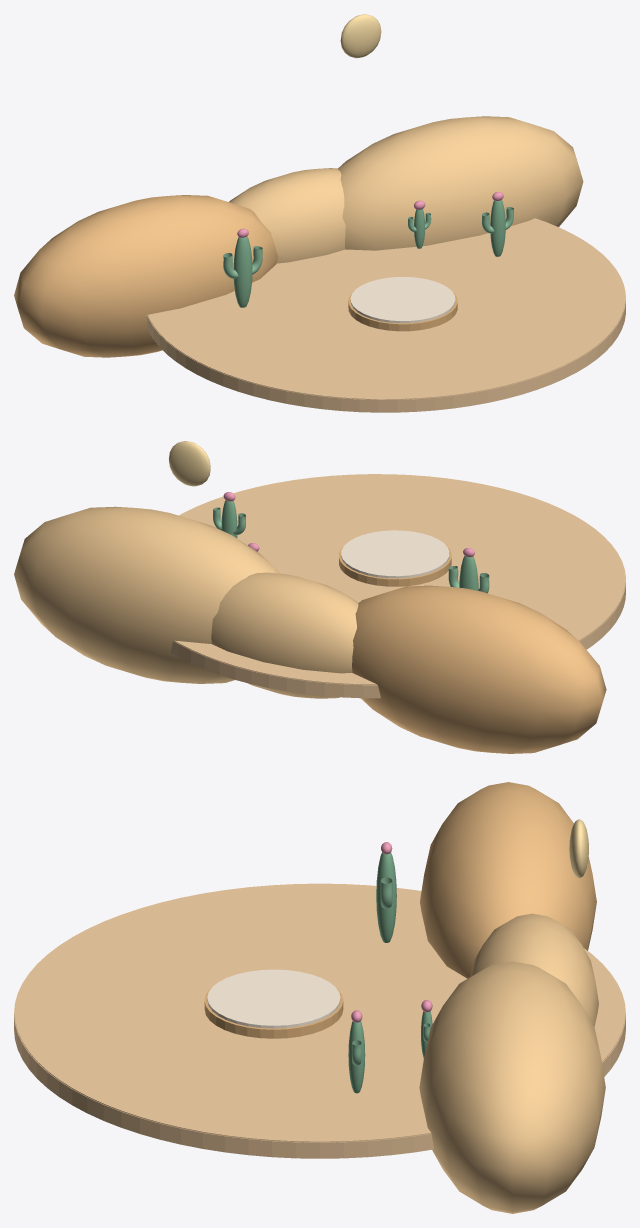
The model's file is deserto.glb.
3 views of the same model, one above another, from view 1: azimuth 30°, elevation 25°; view 2: azimuth 150°, elevation 25°; view 3: azimuth 270°, elevation 25° (orthographic). The views are drawn at different scales.
Parts seen in each view (by area): view 1: Diorama piping.012, Rolling terrain.001, Rolling terrain.002, Rolling terrain.003, Diorama base.012, Look pedestal.012, Sun, Cactus, Look pedestal trim.012, Cactus.001; view 2: Diorama piping.012, Rolling terrain.001, Rolling terrain.002, Rolling terrain.003, Look pedestal.012, Diorama base.012, Sun, Look pedestal trim.012, Cactus, Cactus.001; view 3: Diorama piping.012, Rolling terrain.002, Rolling terrain.001, Diorama base.012, Look pedestal.012, Rolling terrain.003, Look pedestal trim.012, Cactus, Sun, Cactus.001.
Boxes of the visible parts, x1,y1,x2,y2 form: Diorama piping.012: (148, 218, 625, 399); Rolling terrain.001: (14, 195, 278, 357); Rolling terrain.002: (338, 116, 583, 250); Rolling terrain.003: (229, 168, 345, 263); Diorama base.012: (147, 268, 625, 412); Look pedestal.012: (350, 277, 455, 323); Sun: (340, 14, 381, 58); Cactus: (233, 236, 252, 307); Look pedestal trim.012: (348, 291, 457, 331); Cactus.001: (490, 200, 505, 256); Diorama piping.012: (174, 474, 625, 684); Rolling terrain.001: (352, 585, 606, 753); Rolling terrain.002: (14, 506, 279, 683); Rolling terrain.003: (211, 572, 358, 698); Look pedestal.012: (341, 530, 449, 578); Diorama base.012: (170, 544, 625, 698); Sun: (168, 441, 210, 486); Look pedestal trim.012: (339, 545, 451, 586); Cactus: (459, 556, 478, 590); Cactus.001: (221, 500, 237, 537); Diorama piping.012: (14, 883, 625, 1142); Rolling terrain.002: (419, 961, 605, 1213); Rolling terrain.001: (420, 782, 596, 978); Diorama base.012: (14, 974, 625, 1158); Look pedestal.012: (207, 969, 340, 1028); Rolling terrain.003: (470, 913, 598, 1026); Look pedestal trim.012: (204, 988, 343, 1038); Cactus: (376, 852, 396, 942); Sun: (569, 819, 588, 878); Cactus.001: (348, 1021, 365, 1093).
Size of what is drawn, in the model's own units: 11.66 by 5.07 by 8.64.
